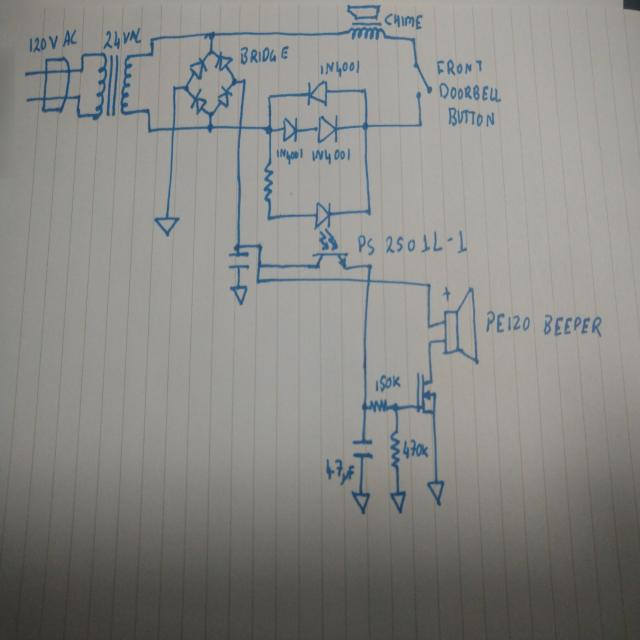capacitor: (350, 438, 374, 460), (226, 250, 251, 271)
crossover: (364, 275, 372, 286), (237, 122, 245, 133), (170, 125, 177, 133)
diode: (316, 113, 339, 145), (305, 78, 328, 107), (187, 87, 207, 119), (188, 56, 208, 81), (282, 116, 300, 143), (216, 84, 233, 108), (214, 50, 233, 71)
ground: (153, 215, 181, 238), (351, 490, 372, 516), (426, 480, 446, 507), (229, 283, 248, 306), (389, 490, 407, 514)
junction: (360, 119, 370, 132), (390, 402, 400, 414), (264, 123, 273, 136), (232, 241, 242, 251), (206, 122, 214, 134), (182, 82, 190, 94), (230, 76, 238, 88), (424, 280, 433, 290), (75, 108, 82, 120), (208, 28, 215, 40), (366, 261, 374, 271), (364, 207, 372, 217), (147, 49, 155, 59), (360, 402, 368, 412), (207, 109, 215, 119), (265, 92, 272, 103), (240, 75, 247, 85), (78, 64, 85, 74), (148, 34, 155, 43), (256, 260, 262, 270), (255, 276, 261, 286), (145, 106, 151, 116), (425, 322, 432, 330), (207, 48, 214, 56), (265, 214, 271, 223), (256, 242, 262, 250), (79, 51, 85, 59), (410, 36, 416, 44), (171, 84, 177, 92), (147, 126, 152, 135), (361, 87, 367, 94), (417, 121, 422, 129), (427, 339, 432, 346), (76, 92, 80, 100)
resistor: (388, 428, 402, 471), (262, 160, 274, 202), (368, 398, 389, 413)
switch: (410, 61, 433, 100)
terminal: (22, 95, 32, 105), (22, 68, 31, 78)
text: (484, 309, 610, 339), (356, 228, 476, 259), (438, 81, 502, 104), (28, 28, 78, 52), (239, 44, 293, 66), (102, 23, 143, 50), (446, 106, 496, 128), (384, 9, 424, 31), (324, 458, 355, 486), (436, 58, 483, 76), (319, 58, 361, 78), (310, 148, 352, 165), (374, 372, 404, 395), (402, 438, 429, 460), (276, 146, 304, 166)
transformer: (91, 52, 136, 122)
transistor: (413, 370, 437, 418)
